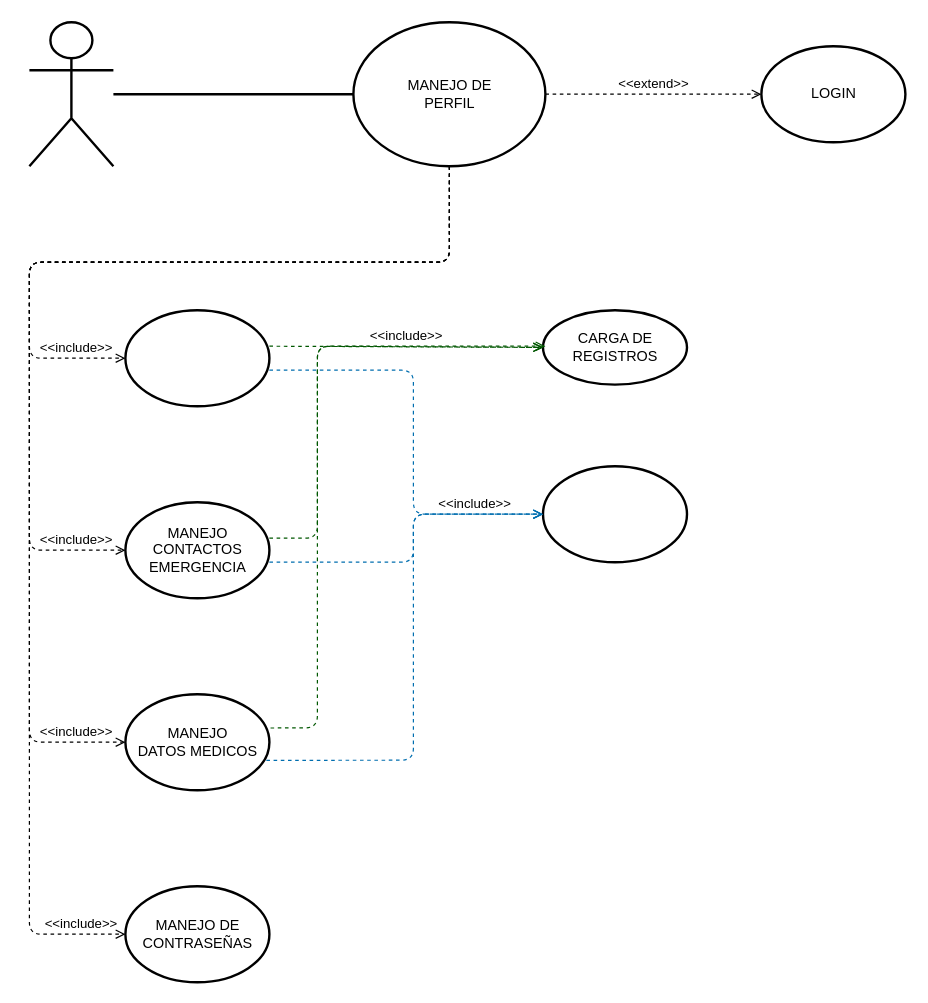
This 928x1003 diagram has some shape labels left out. Each missing label, with the centre of its shape:
MANEJO INFORMACION PERSONAL: (197,357)
MODIFICAR REGISTROS: (614,513)
Paciente: (71,93)
